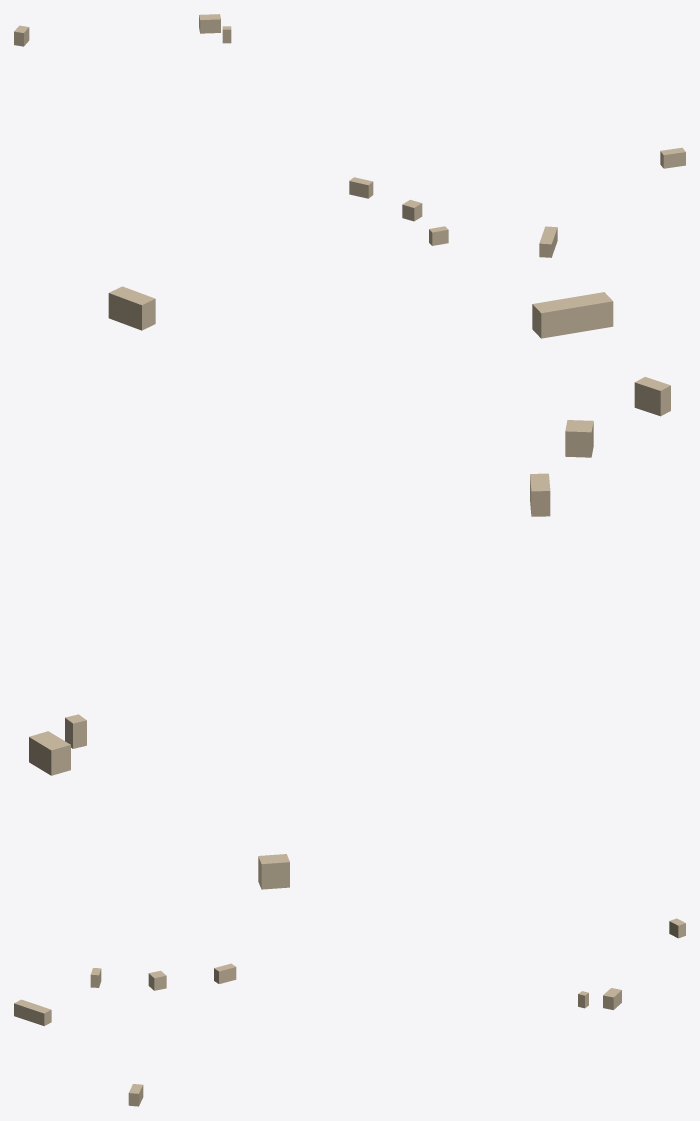
Rendered from -24_-13-estimated-coarse.glb.
3 renders of one model, top to bottom at view 1: azimuth 30°, elevation 25°; view 2: azimuth 150°, elevation 25°; view 3: azimuth 270°, elevation 25°, orthographic. The views are drawn at different scales.
Bounding box in the file's own units: 356 × 12 × 576.
